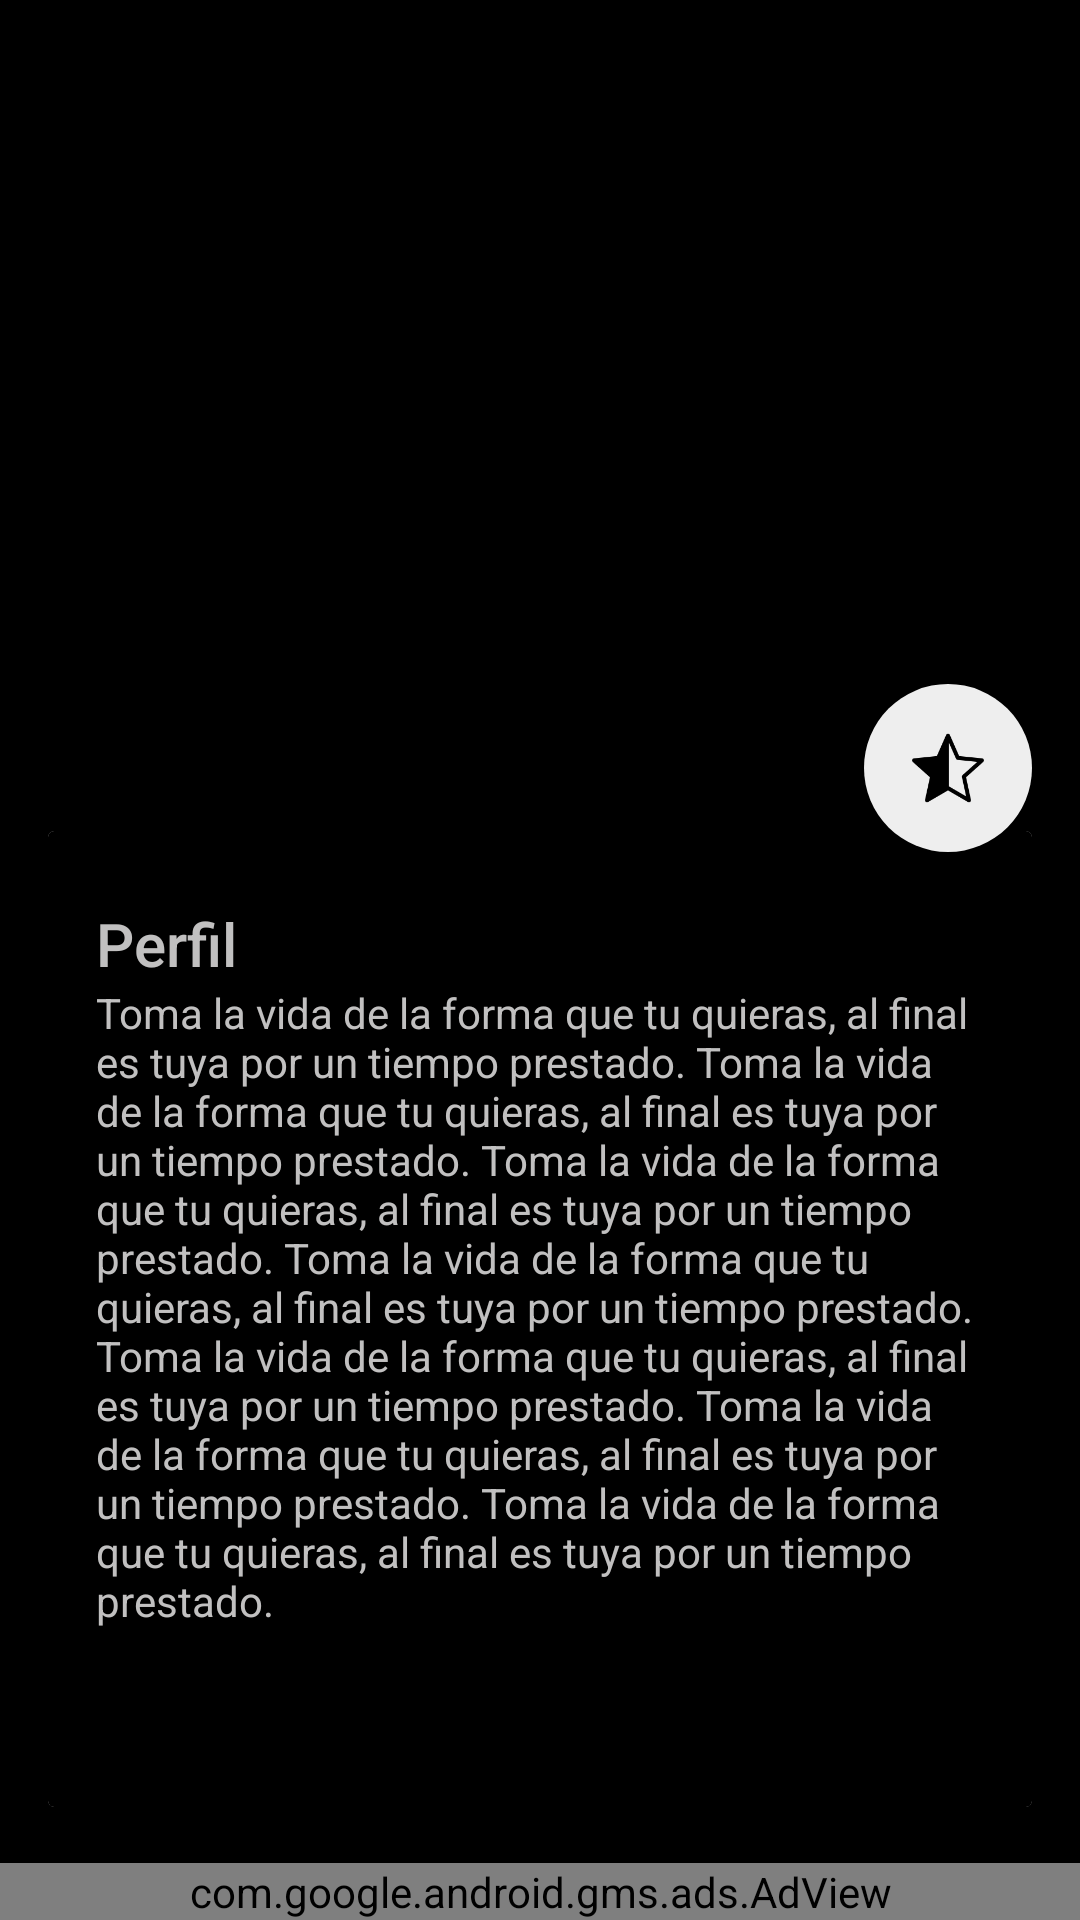

Icon click points for this 1080*1920 phone screenshot, format [x,y]:
star half: [948,768]
